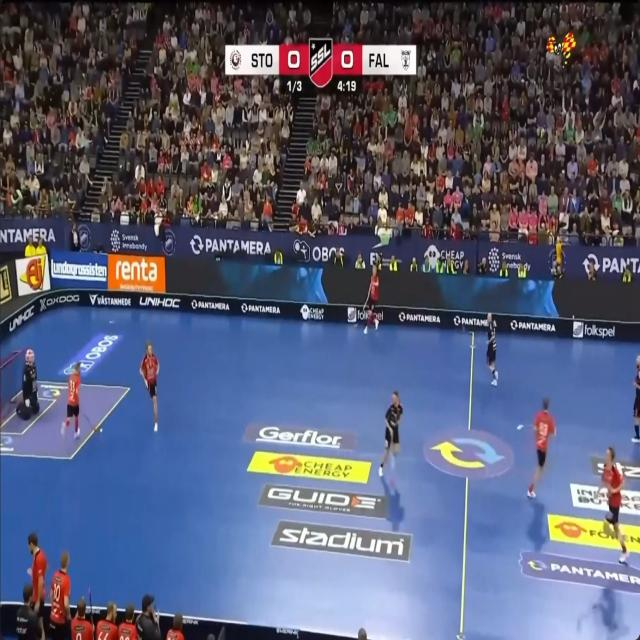Balls: (99, 428, 102, 431)
player: (601, 447, 628, 561), (527, 398, 556, 498), (378, 390, 403, 477), (28, 533, 47, 639), (50, 551, 70, 639), (140, 341, 159, 431), (61, 363, 80, 439), (364, 265, 379, 333), (70, 597, 93, 639), (95, 602, 118, 639), (487, 312, 498, 385), (632, 355, 640, 443)
stick: (80, 411, 97, 431), (89, 587, 94, 626), (363, 287, 370, 309)
